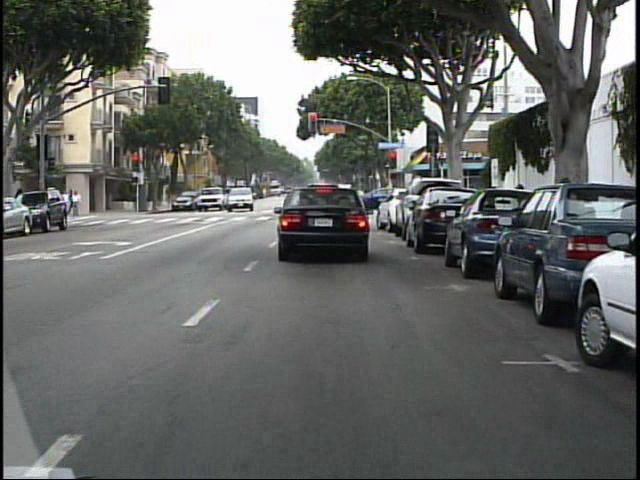person: (71, 189, 86, 217), (69, 187, 82, 218)
